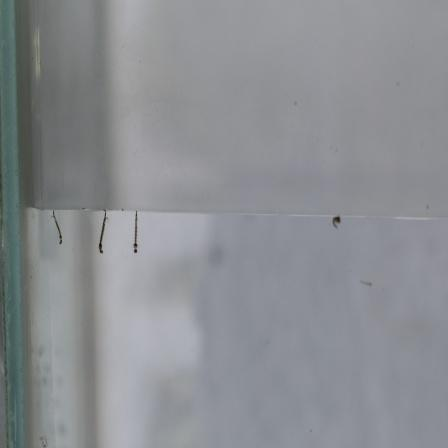Jentik-Nyamuk: (94, 207, 111, 258), (49, 208, 67, 248), (128, 209, 143, 256), (328, 214, 343, 234)
